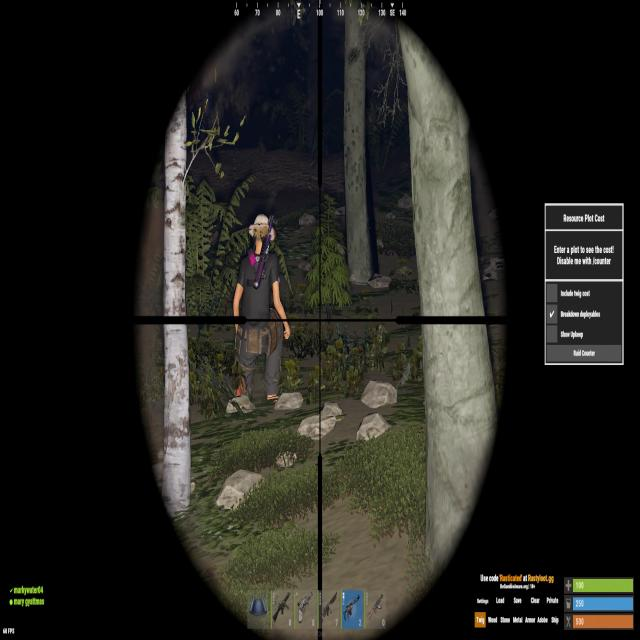Player: (232, 214, 291, 400)
